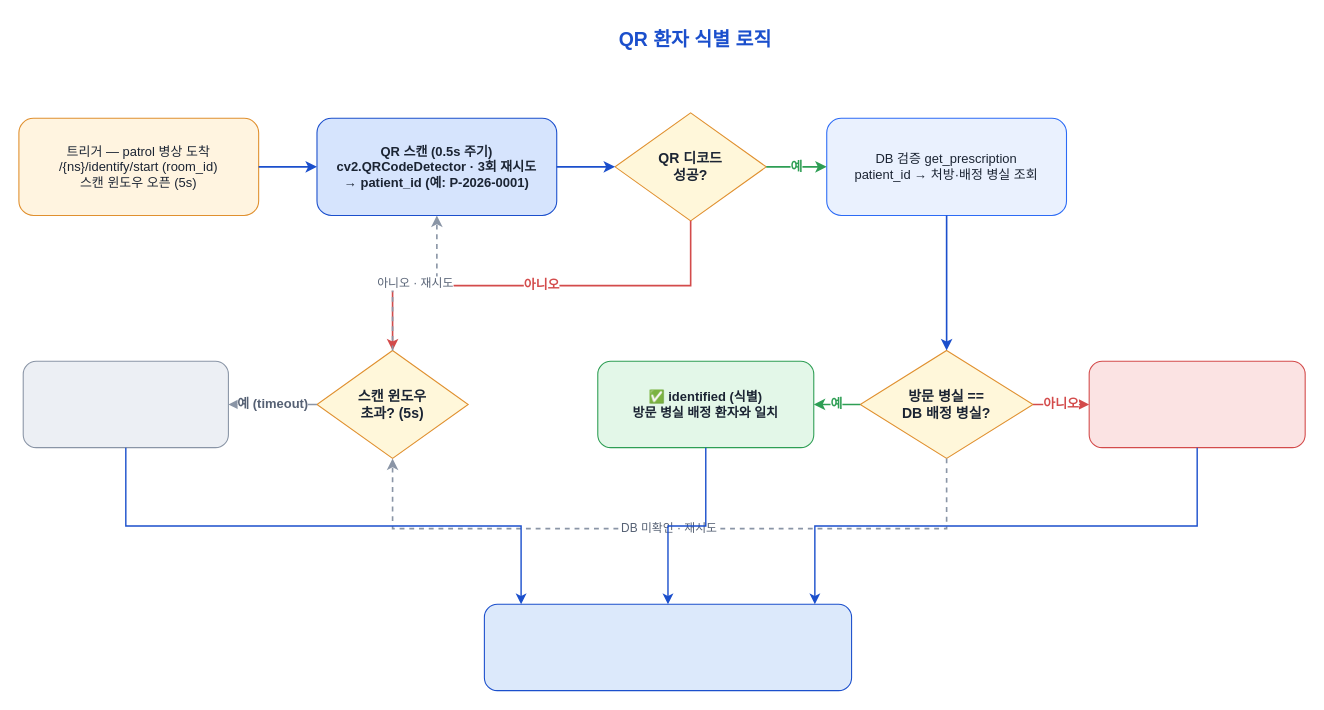
This 1324x710 diagram has some shape labels left out. The shapes that lost their labels are listed below. From the top down, each one's centre as x and y in pixels, then its label:
At (125,404): "🚫 absent (부재) 윈도우 내 QR 미인식 → 사람 없다고 가정".
At (1196,404): "⚠️ mismatch (다른 환자) DB엔 있으나 배정 병실 불일치".
At (667,647): "결과 1회 발행 → /{ns}/patient_identified status: identified · mismatch · absent".
